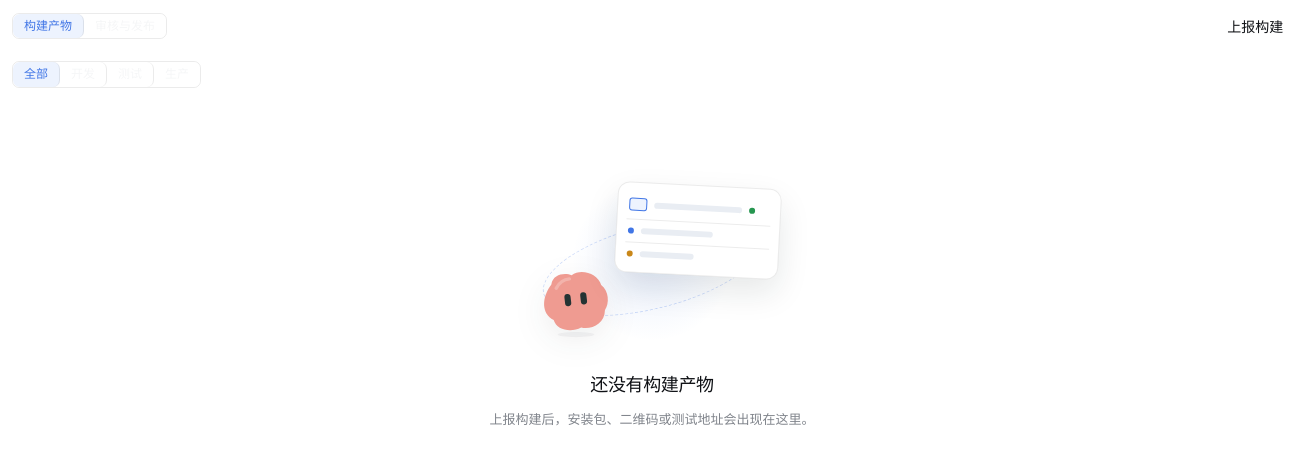
Test case: artifacts-page › 切换到审核与发布页签后展示独立记录区
Expected: the heading "还没有构建产物" is shown, top-left (590, 370), bottom-right (714, 398)
Click the tab "审核与发布".
click(125, 26)  # box top-left (84, 14), bottom-right (166, 38)
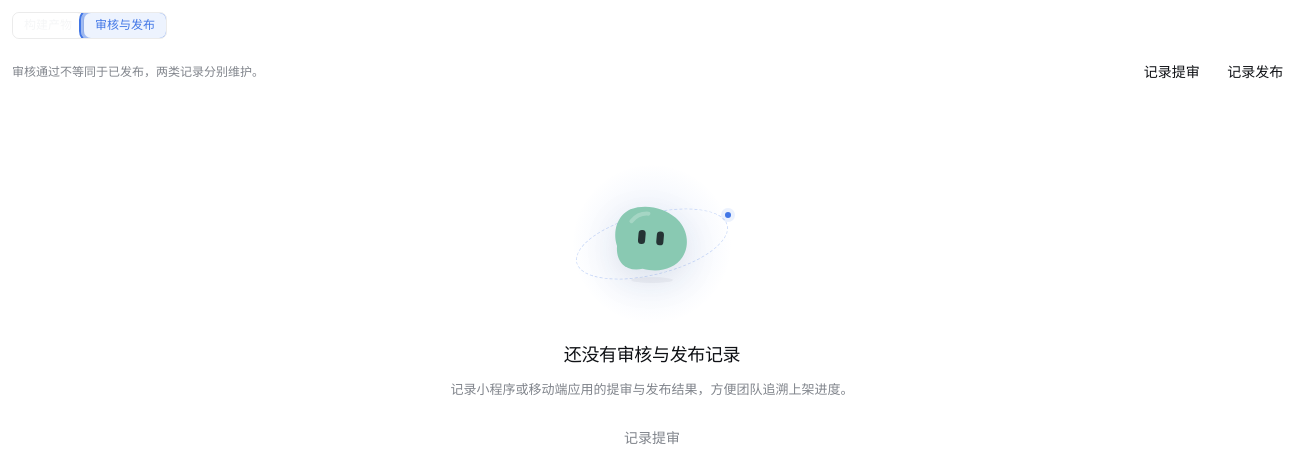
Expected: the heading "还没有审核与发布记录" is shown, top-left (564, 341), bottom-right (740, 368)
Expected: the heading "还没有构建产物" is gone
